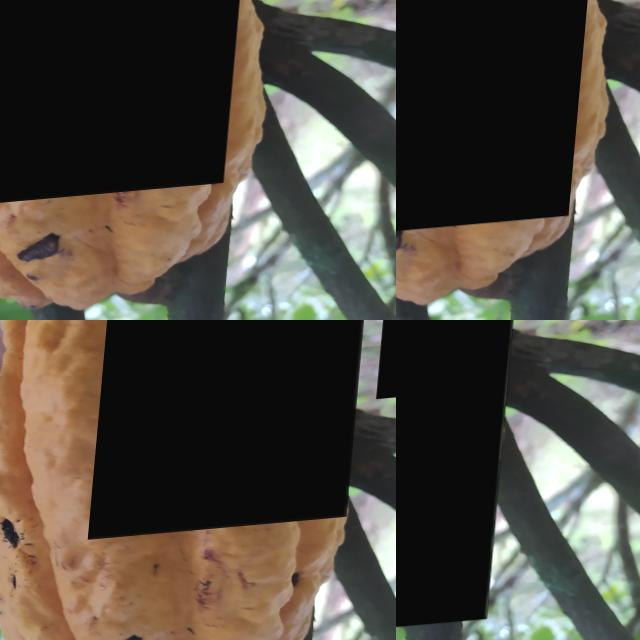Monilia: (95, 320, 379, 543)
Sana: (0, 0, 262, 210), (396, 0, 607, 242), (396, 320, 534, 640), (382, 322, 396, 408)
